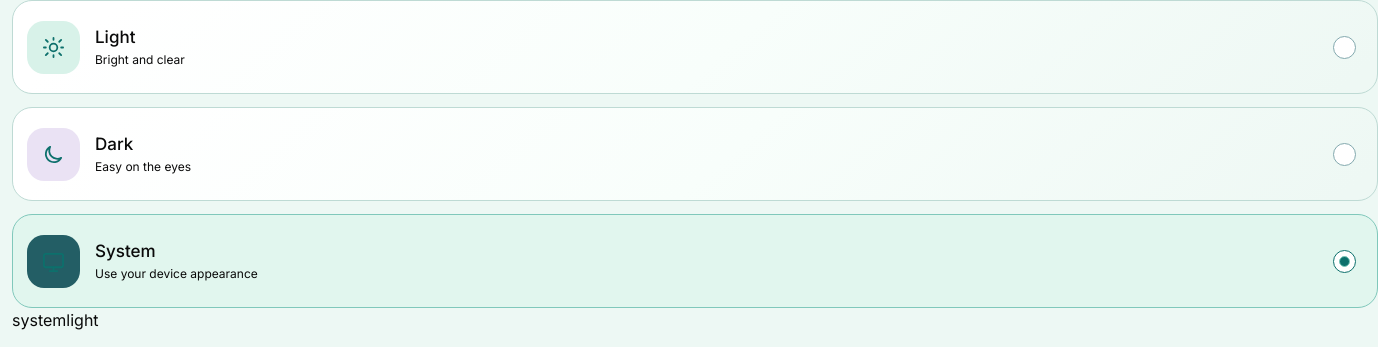
Scenario: theme selection › selects Light and persists the explicit preference
Click the radio button labelled "Light". click: click(54, 47)
box: [12,0,1377,94]
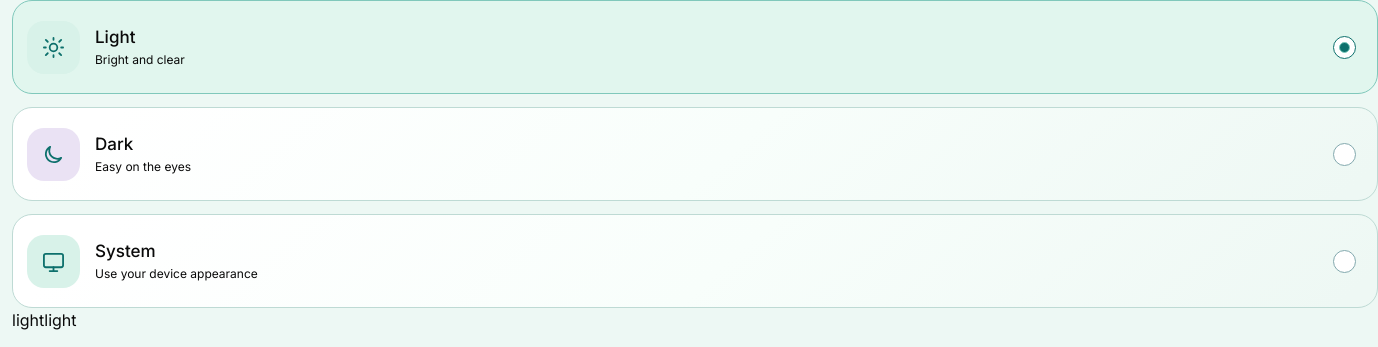
Expected: the text with test id "resolved-theme" reads "light", [44,310,77,330]
Expected: the radio button labelled "Light" is checked, [12,0,1377,94]
